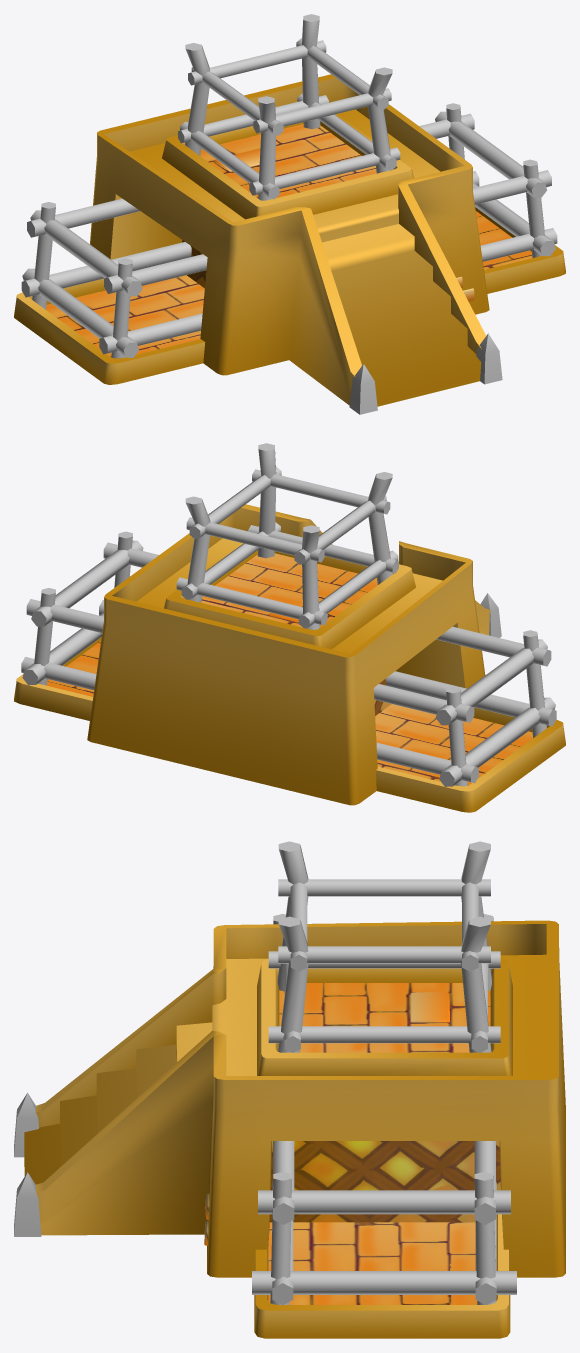
File: ArabianHouse_L_11.fbx
The picture shows the model from 3 angles, top to bottom: view 1: azimuth 30°, elevation 25°; view 2: azimuth 150°, elevation 25°; view 3: azimuth 270°, elevation 25°; orthographic projection. The views are drawn at different scales.
Parts seen in each view (by area): view 1: ArabianHouse_L_11; view 2: ArabianHouse_L_11; view 3: ArabianHouse_L_11.
Boxes of the visible parts, x1,y1,x2,y2 form: ArabianHouse_L_11: (14, 14, 565, 414); ArabianHouse_L_11: (14, 443, 565, 812); ArabianHouse_L_11: (14, 841, 565, 1338).
Size of the model in its own units: 9.44 by 4.58 by 7.47.
